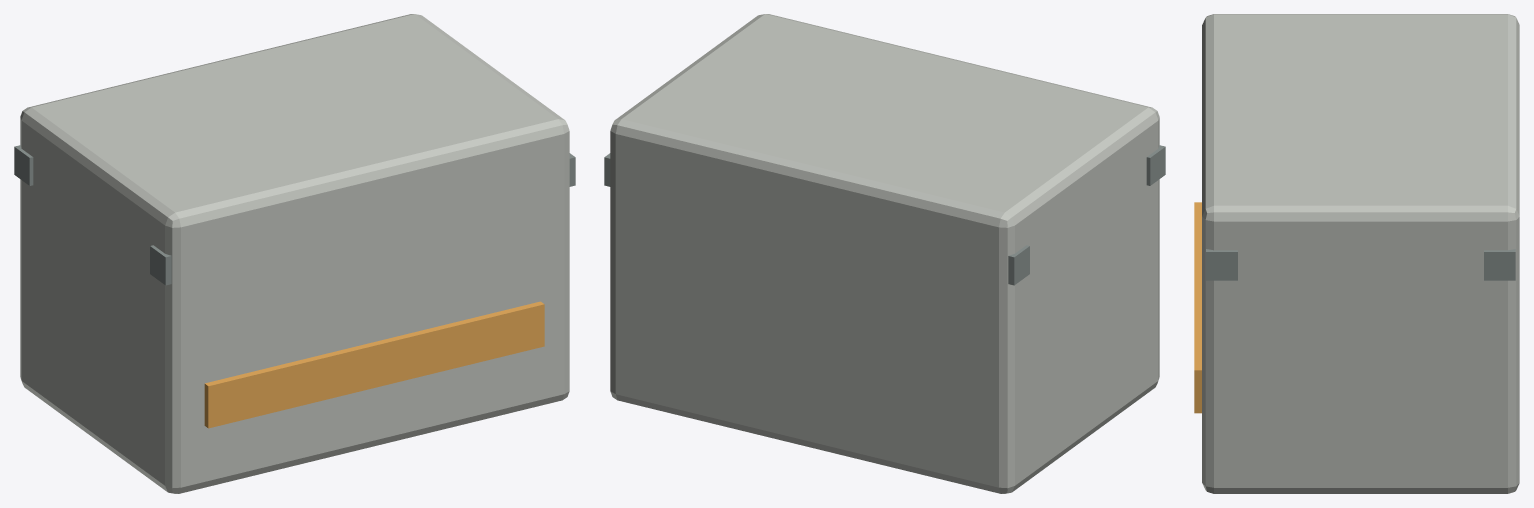
File: prop_crate_a.glb
The picture shows the model from 3 angles, left to right: view 1: azimuth 30°, elevation 25°; view 2: azimuth 150°, elevation 25°; view 3: azimuth 270°, elevation 25°; orthographic projection. The views are drawn at different scales.
Parts seen in each view (by area): view 1: prop_crate_a; view 2: prop_crate_a; view 3: prop_crate_a.
Part boxes in pixels (x1=…): prop_crate_a: x1=14, y1=14, x2=575, y2=493; prop_crate_a: x1=604, y1=14, x2=1165, y2=493; prop_crate_a: x1=1194, y1=14, x2=1519, y2=493.
Bounding box in the file's own units: 1.22 × 0.8 × 0.82.
